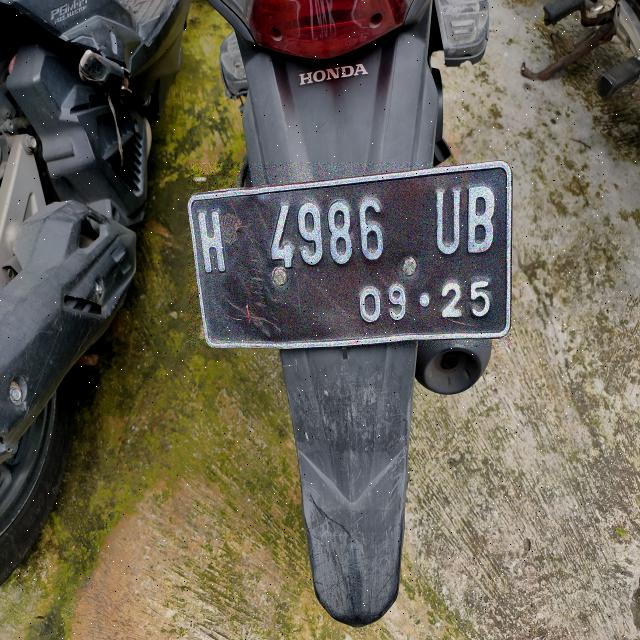plate: (189, 162, 511, 347)
